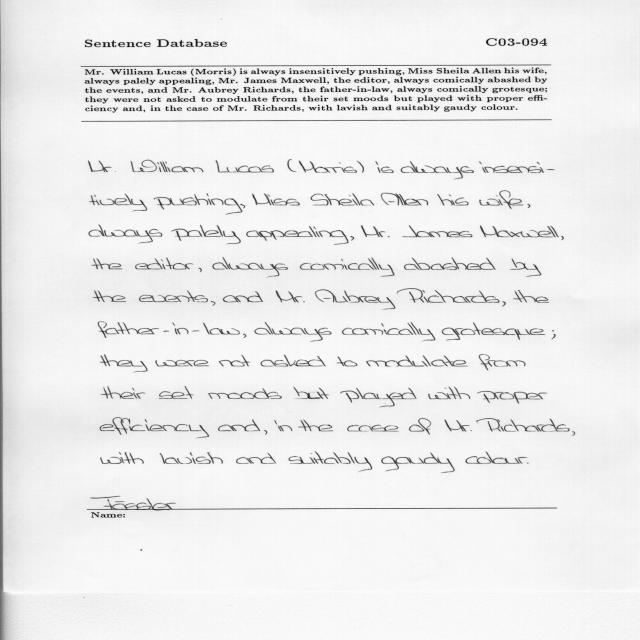word: (98, 322, 240, 338), (100, 418, 209, 438), (397, 289, 506, 307), (154, 193, 243, 215), (246, 226, 349, 245), (300, 257, 395, 277), (442, 323, 545, 341), (342, 322, 435, 341), (289, 452, 372, 472), (381, 452, 455, 473), (255, 322, 332, 342), (212, 258, 288, 278), (341, 388, 417, 408), (323, 291, 395, 310), (401, 161, 474, 179), (89, 225, 162, 243), (172, 225, 241, 244), (477, 418, 570, 432), (366, 355, 468, 367), (404, 257, 496, 270), (90, 194, 147, 211), (480, 226, 559, 238), (275, 290, 346, 303), (479, 161, 555, 173), (477, 391, 547, 404), (131, 160, 204, 172), (100, 354, 148, 372), (403, 225, 473, 237), (139, 291, 208, 303), (208, 388, 282, 399), (479, 354, 526, 371), (479, 191, 523, 209), (215, 160, 274, 173), (311, 194, 374, 206), (160, 452, 223, 464), (465, 452, 527, 464), (261, 355, 326, 366), (299, 161, 357, 173), (135, 258, 193, 270), (511, 258, 542, 277), (252, 194, 300, 206), (101, 386, 145, 399), (381, 193, 428, 205), (100, 452, 144, 464), (428, 387, 470, 399), (218, 420, 260, 432), (159, 386, 194, 399), (223, 291, 263, 302), (236, 453, 276, 464), (293, 387, 329, 399), (518, 290, 549, 303), (93, 290, 126, 302), (298, 420, 333, 431), (409, 418, 431, 435), (347, 425, 399, 432), (438, 194, 469, 205), (219, 355, 250, 366), (361, 225, 389, 237), (444, 420, 472, 432), (92, 259, 122, 270), (156, 360, 209, 366), (88, 161, 116, 172), (375, 161, 394, 173), (337, 357, 358, 367), (274, 420, 292, 431), (288, 159, 297, 172), (513, 291, 523, 302), (357, 161, 364, 173), (551, 330, 556, 339), (241, 204, 246, 208), (211, 301, 215, 306), (264, 430, 268, 435), (351, 236, 355, 240), (572, 431, 575, 436), (528, 204, 531, 208), (561, 236, 564, 240), (199, 268, 202, 272), (243, 334, 246, 338), (527, 463, 529, 464)
